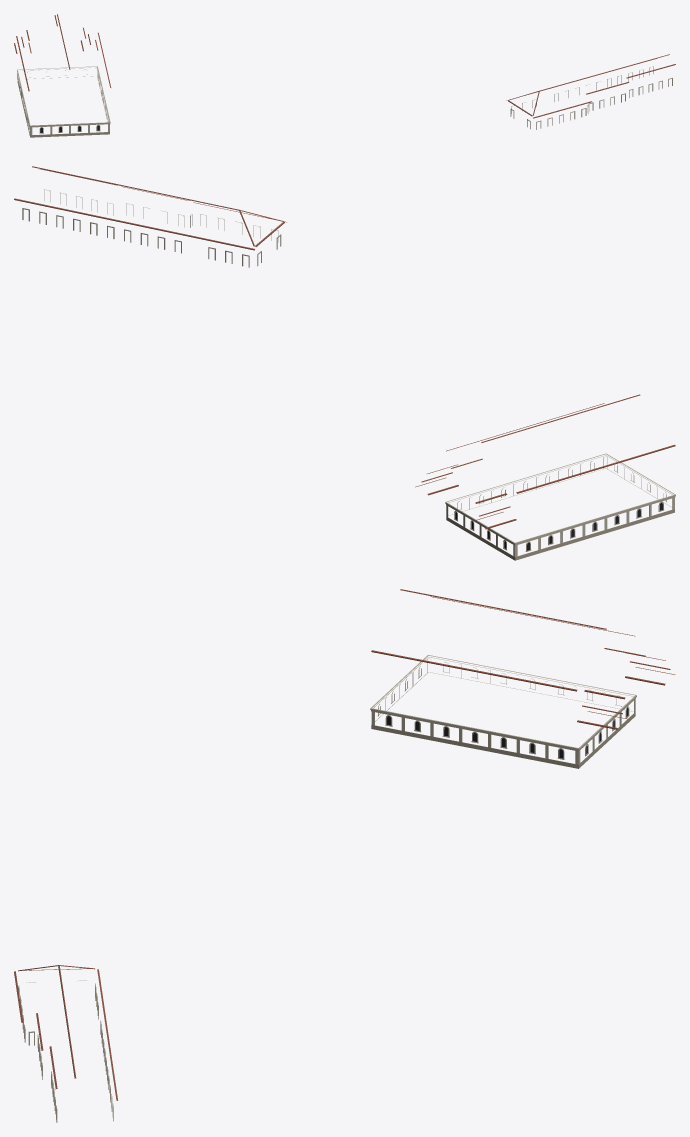
3 views of the same model, one above another, from view 1: azimuth 30°, elevation 25°; view 2: azimuth 150°, elevation 25°; view 3: azimuth 270°, elevation 25° (orthographic). The views are drawn at different scales.
Parts seen in each view (by area): view 1: detail; view 2: detail; view 3: detail.
Part boxes in pixels (left/top/right/bottom): detail: left=14, top=14, right=675, bottom=137; detail: left=14, top=166, right=675, bottom=560; detail: left=14, top=589, right=675, bottom=1122.
Bounding box in the file's own units: 189 × 22.2 × 117.
